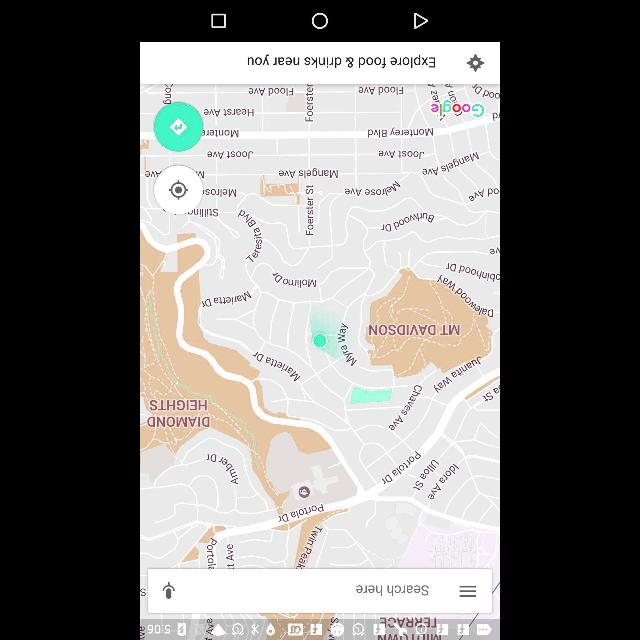icon: (169, 176, 191, 202), (466, 54, 484, 74), (456, 584, 478, 600), (160, 578, 176, 600), (412, 12, 430, 30), (312, 12, 328, 30), (211, 12, 225, 28)
input: (150, 570, 494, 614)
map: (141, 87, 497, 565)
panel: (141, 42, 499, 84), (140, 2, 498, 40)
text: (242, 51, 438, 73), (354, 582, 430, 598)
uppertaskbar: (142, 620, 500, 640)
